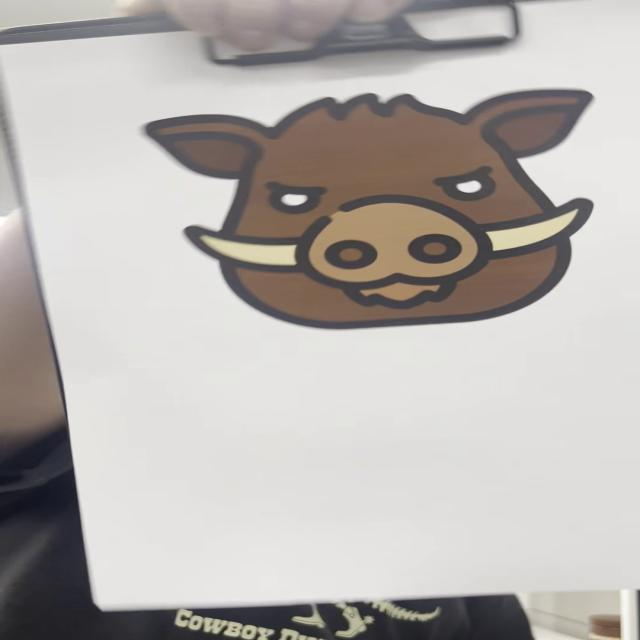animal: (125, 88, 598, 337)
